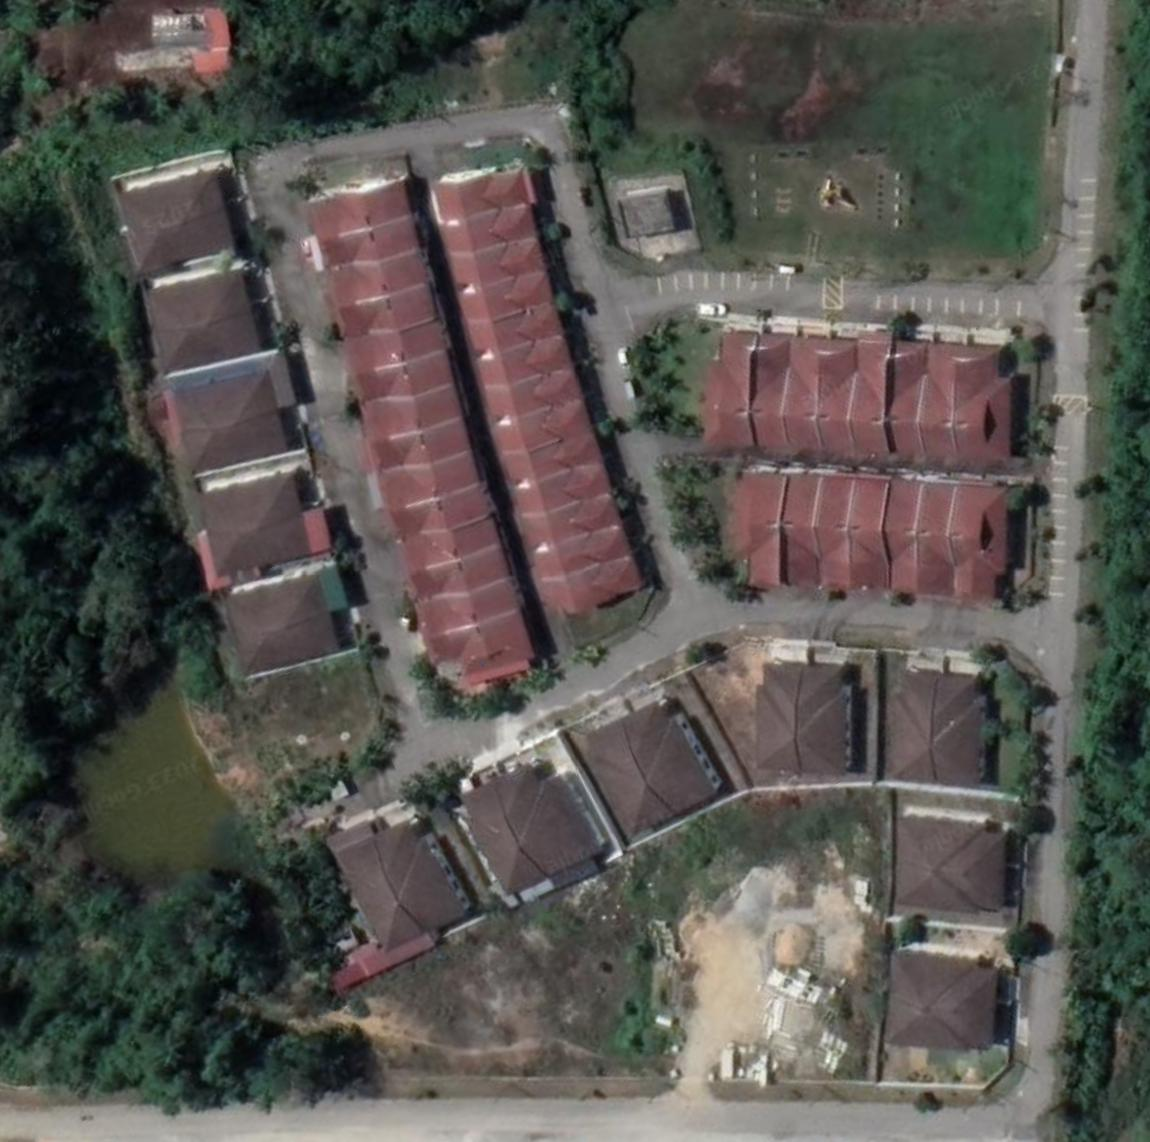building: (319, 808, 431, 958), (498, 755, 613, 882), (151, 349, 303, 440), (192, 504, 342, 596), (579, 709, 680, 846), (456, 772, 555, 906), (372, 808, 477, 935), (214, 556, 360, 644), (108, 154, 246, 244), (627, 696, 722, 818), (185, 459, 319, 538), (121, 211, 255, 285), (134, 260, 268, 334), (170, 412, 304, 485), (420, 619, 546, 692), (144, 314, 274, 384), (953, 338, 1022, 469), (890, 810, 1018, 880), (883, 943, 1004, 1017), (878, 662, 945, 789), (696, 323, 761, 453), (724, 465, 791, 591), (231, 616, 354, 684), (952, 479, 1014, 612), (424, 157, 540, 225), (303, 174, 417, 243), (887, 859, 1013, 919), (366, 455, 488, 516), (531, 558, 649, 621), (750, 656, 807, 783), (398, 547, 519, 608), (411, 581, 526, 643), (376, 487, 499, 544), (503, 463, 619, 522), (354, 424, 474, 479), (941, 663, 992, 792), (876, 1006, 1002, 1058), (804, 659, 855, 786), (392, 519, 507, 575), (491, 434, 606, 490), (468, 335, 579, 393), (476, 368, 586, 427), (355, 390, 470, 446), (328, 289, 444, 343), (343, 356, 461, 409), (321, 253, 432, 310), (526, 530, 638, 586), (483, 403, 597, 457), (891, 332, 936, 469), (514, 498, 624, 553), (340, 324, 454, 378), (459, 304, 567, 360), (312, 222, 428, 273), (858, 326, 899, 472), (754, 324, 798, 456), (852, 469, 895, 600), (444, 239, 548, 294), (888, 473, 930, 603), (787, 327, 829, 461), (454, 271, 556, 325), (434, 209, 543, 258), (921, 476, 961, 610), (786, 462, 826, 595), (822, 329, 861, 461), (926, 334, 965, 469), (821, 466, 860, 597)
